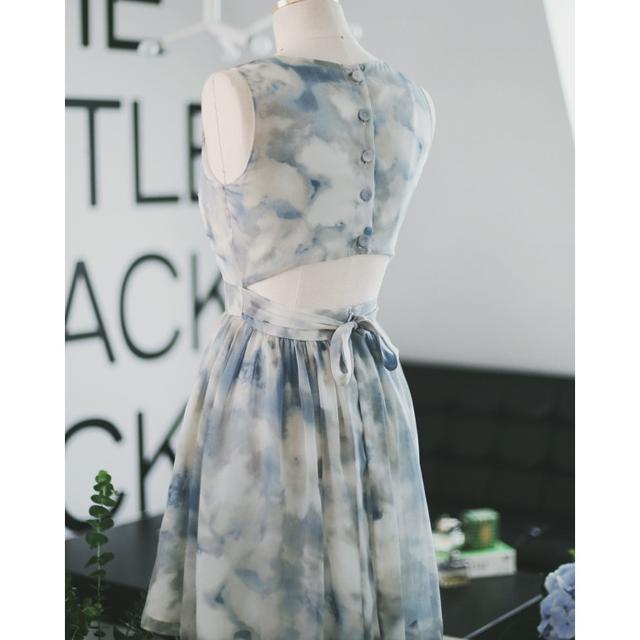Dresses: (151, 52, 436, 640)
